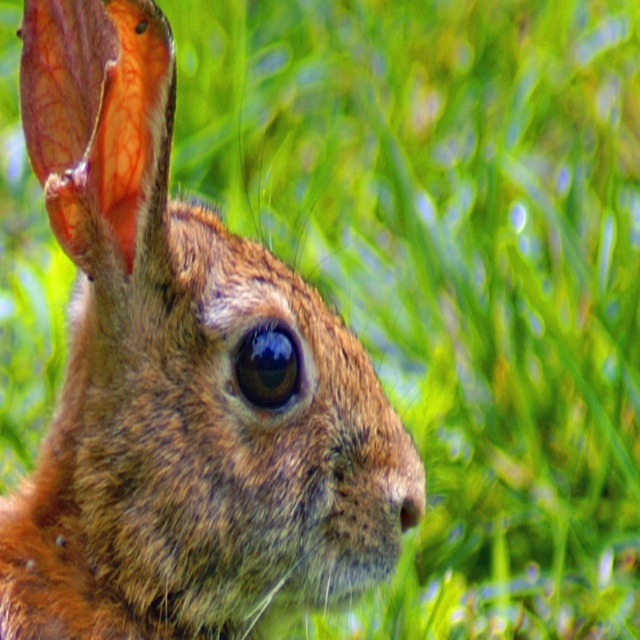Rabbit: (0, 0, 441, 639)
